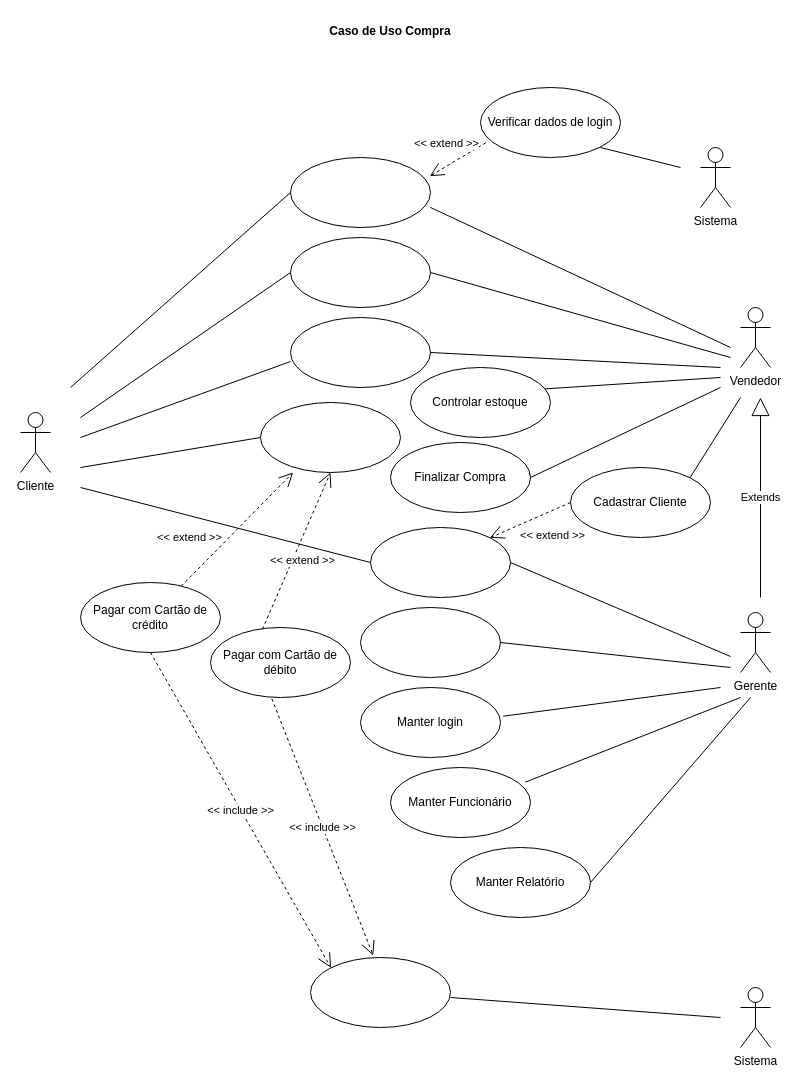
This 798x1085 diagram has some shape labels left out. Each missing label, with the centre of its shape:
Colocar item no carrinho: the point at 360,352
Fazer login: the point at 360,192
Manter Cliente: the point at 440,562
Manter produto: the point at 430,642
Navegar pelo catalogo: the point at 360,272
Realizar pagamento: the point at 330,437
Verificar dados do cartão: the point at 380,992
